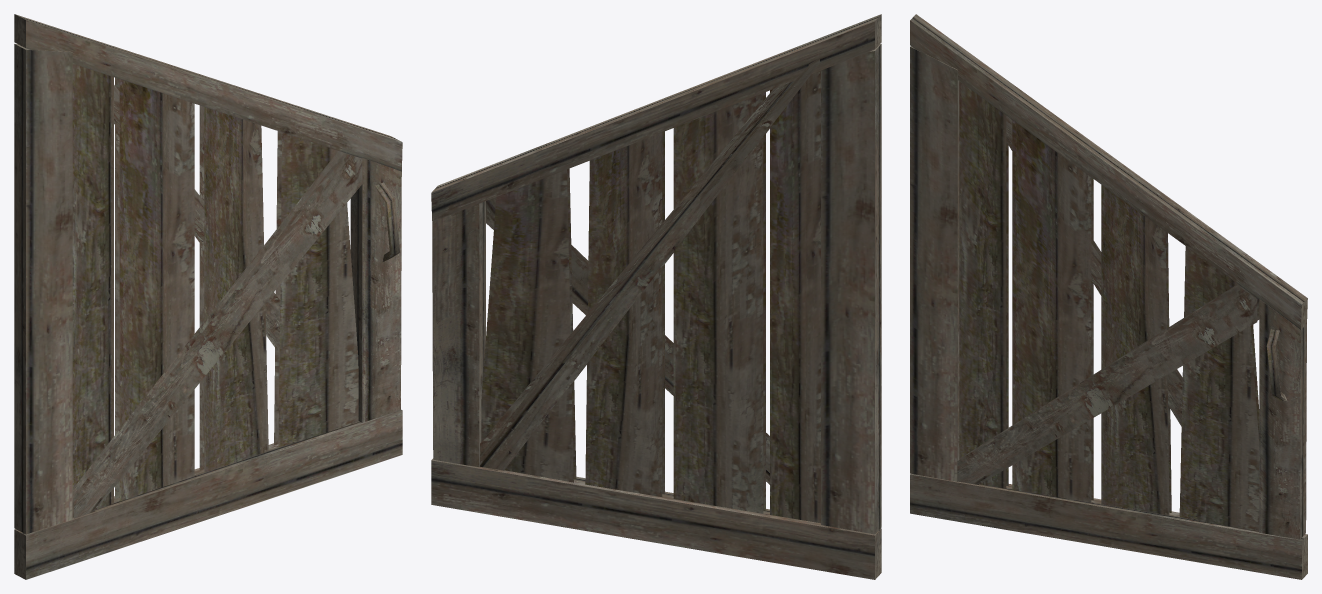
Rendered from AngledDoor.fbx.
The picture shows the model from 3 angles, left to right: view 1: azimuth 30°, elevation 25°; view 2: azimuth 150°, elevation 25°; view 3: azimuth 330°, elevation 25°; orthographic projection. The views are drawn at different scales.
Parts seen in each view (by area): view 1: AngledDoor; view 2: AngledDoor; view 3: AngledDoor.
Boxes of the visible parts, <box> form: AngledDoor: <box>14,14,402,579</box>; AngledDoor: <box>431,14,881,579</box>; AngledDoor: <box>910,14,1307,579</box>.
Size of the model in its own units: 2.47 by 3.19 by 0.4467.
